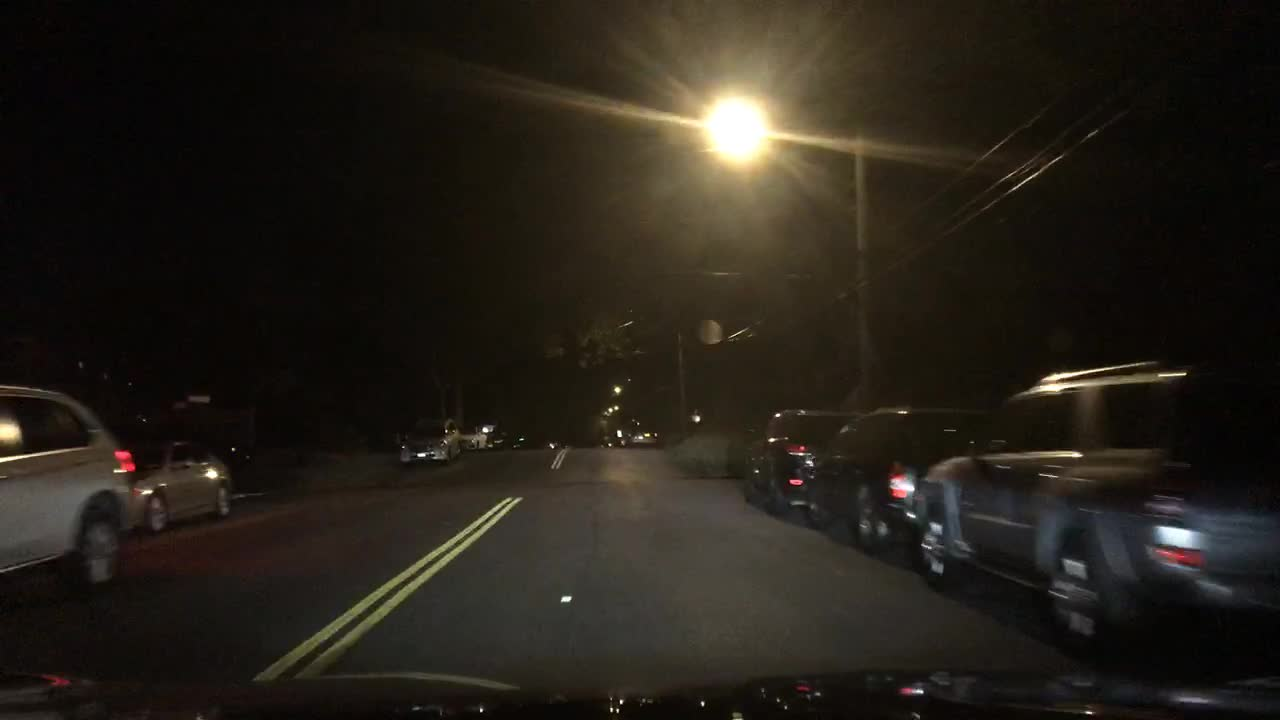car: (912, 351, 1279, 659), (1, 383, 139, 591), (805, 410, 985, 556), (738, 412, 852, 515), (123, 438, 236, 534), (395, 417, 465, 463), (455, 422, 487, 448), (473, 422, 506, 445), (510, 430, 536, 448), (632, 427, 660, 443), (600, 434, 617, 448), (620, 429, 637, 442)
